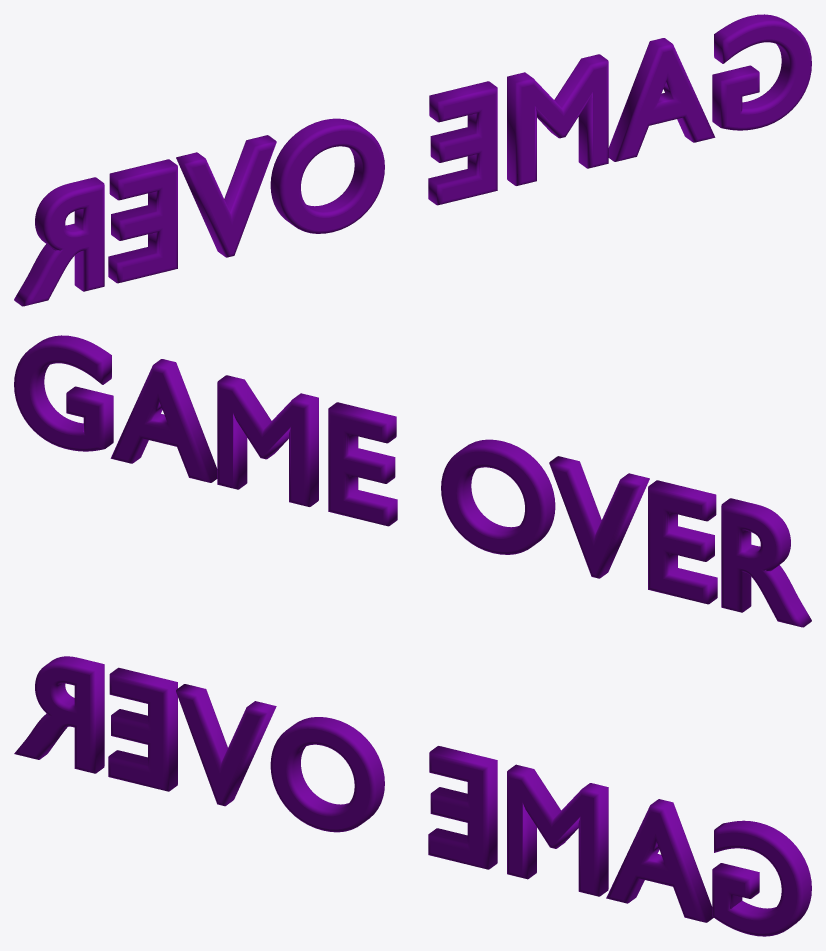
Rendered from gameOver.obj.
The picture shows the model from 3 angles, top to bottom: view 1: azimuth 30°, elevation 25°; view 2: azimuth 150°, elevation 25°; view 3: azimuth 330°, elevation 25°; orthographic projection.
Visible parts, largest first — view 1: テキスト; view 2: テキスト; view 3: テキスト.
Boxes of the visible parts, box(x1,y1,x2,y2) form: テキスト: box(14, 14, 811, 306); テキスト: box(14, 335, 811, 627); テキスト: box(14, 656, 811, 936).
Bounding box in the file's own units: 5.94 × 0.7601 × 0.16.
